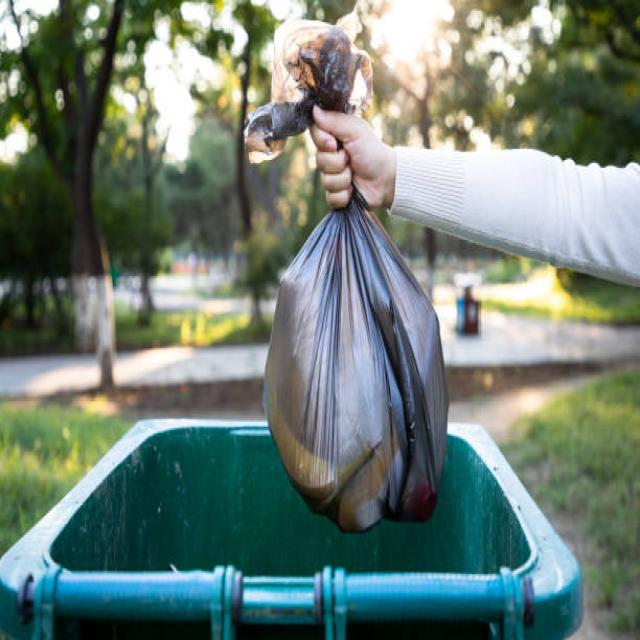trash: (227, 28, 466, 530)
